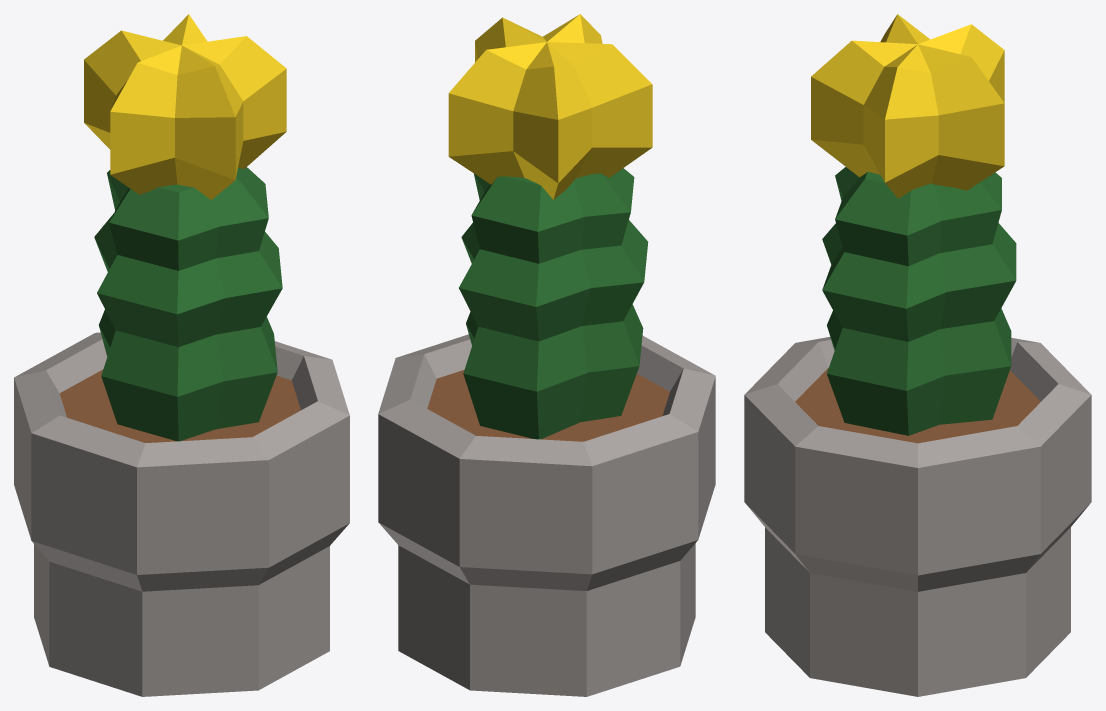
File: furniture_pot-small-circle-cactus-b.fbx
The picture shows the model from 3 angles, left to right: view 1: azimuth 30°, elevation 25°; view 2: azimuth 150°, elevation 25°; view 3: azimuth 270°, elevation 25°; orthographic projection.
Visible parts, largest first — view 1: furniture_pot_small_circle_cactus_b; view 2: furniture_pot_small_circle_cactus_b; view 3: furniture_pot_small_circle_cactus_b.
Part boxes in pixels (left/top/right/bottom): furniture_pot_small_circle_cactus_b: left=14, top=14, right=349, bottom=696; furniture_pot_small_circle_cactus_b: left=378, top=14, right=715, bottom=696; furniture_pot_small_circle_cactus_b: left=744, top=14, right=1091, bottom=696.
Bounding box in the file's own units: 106 × 200 × 106.
